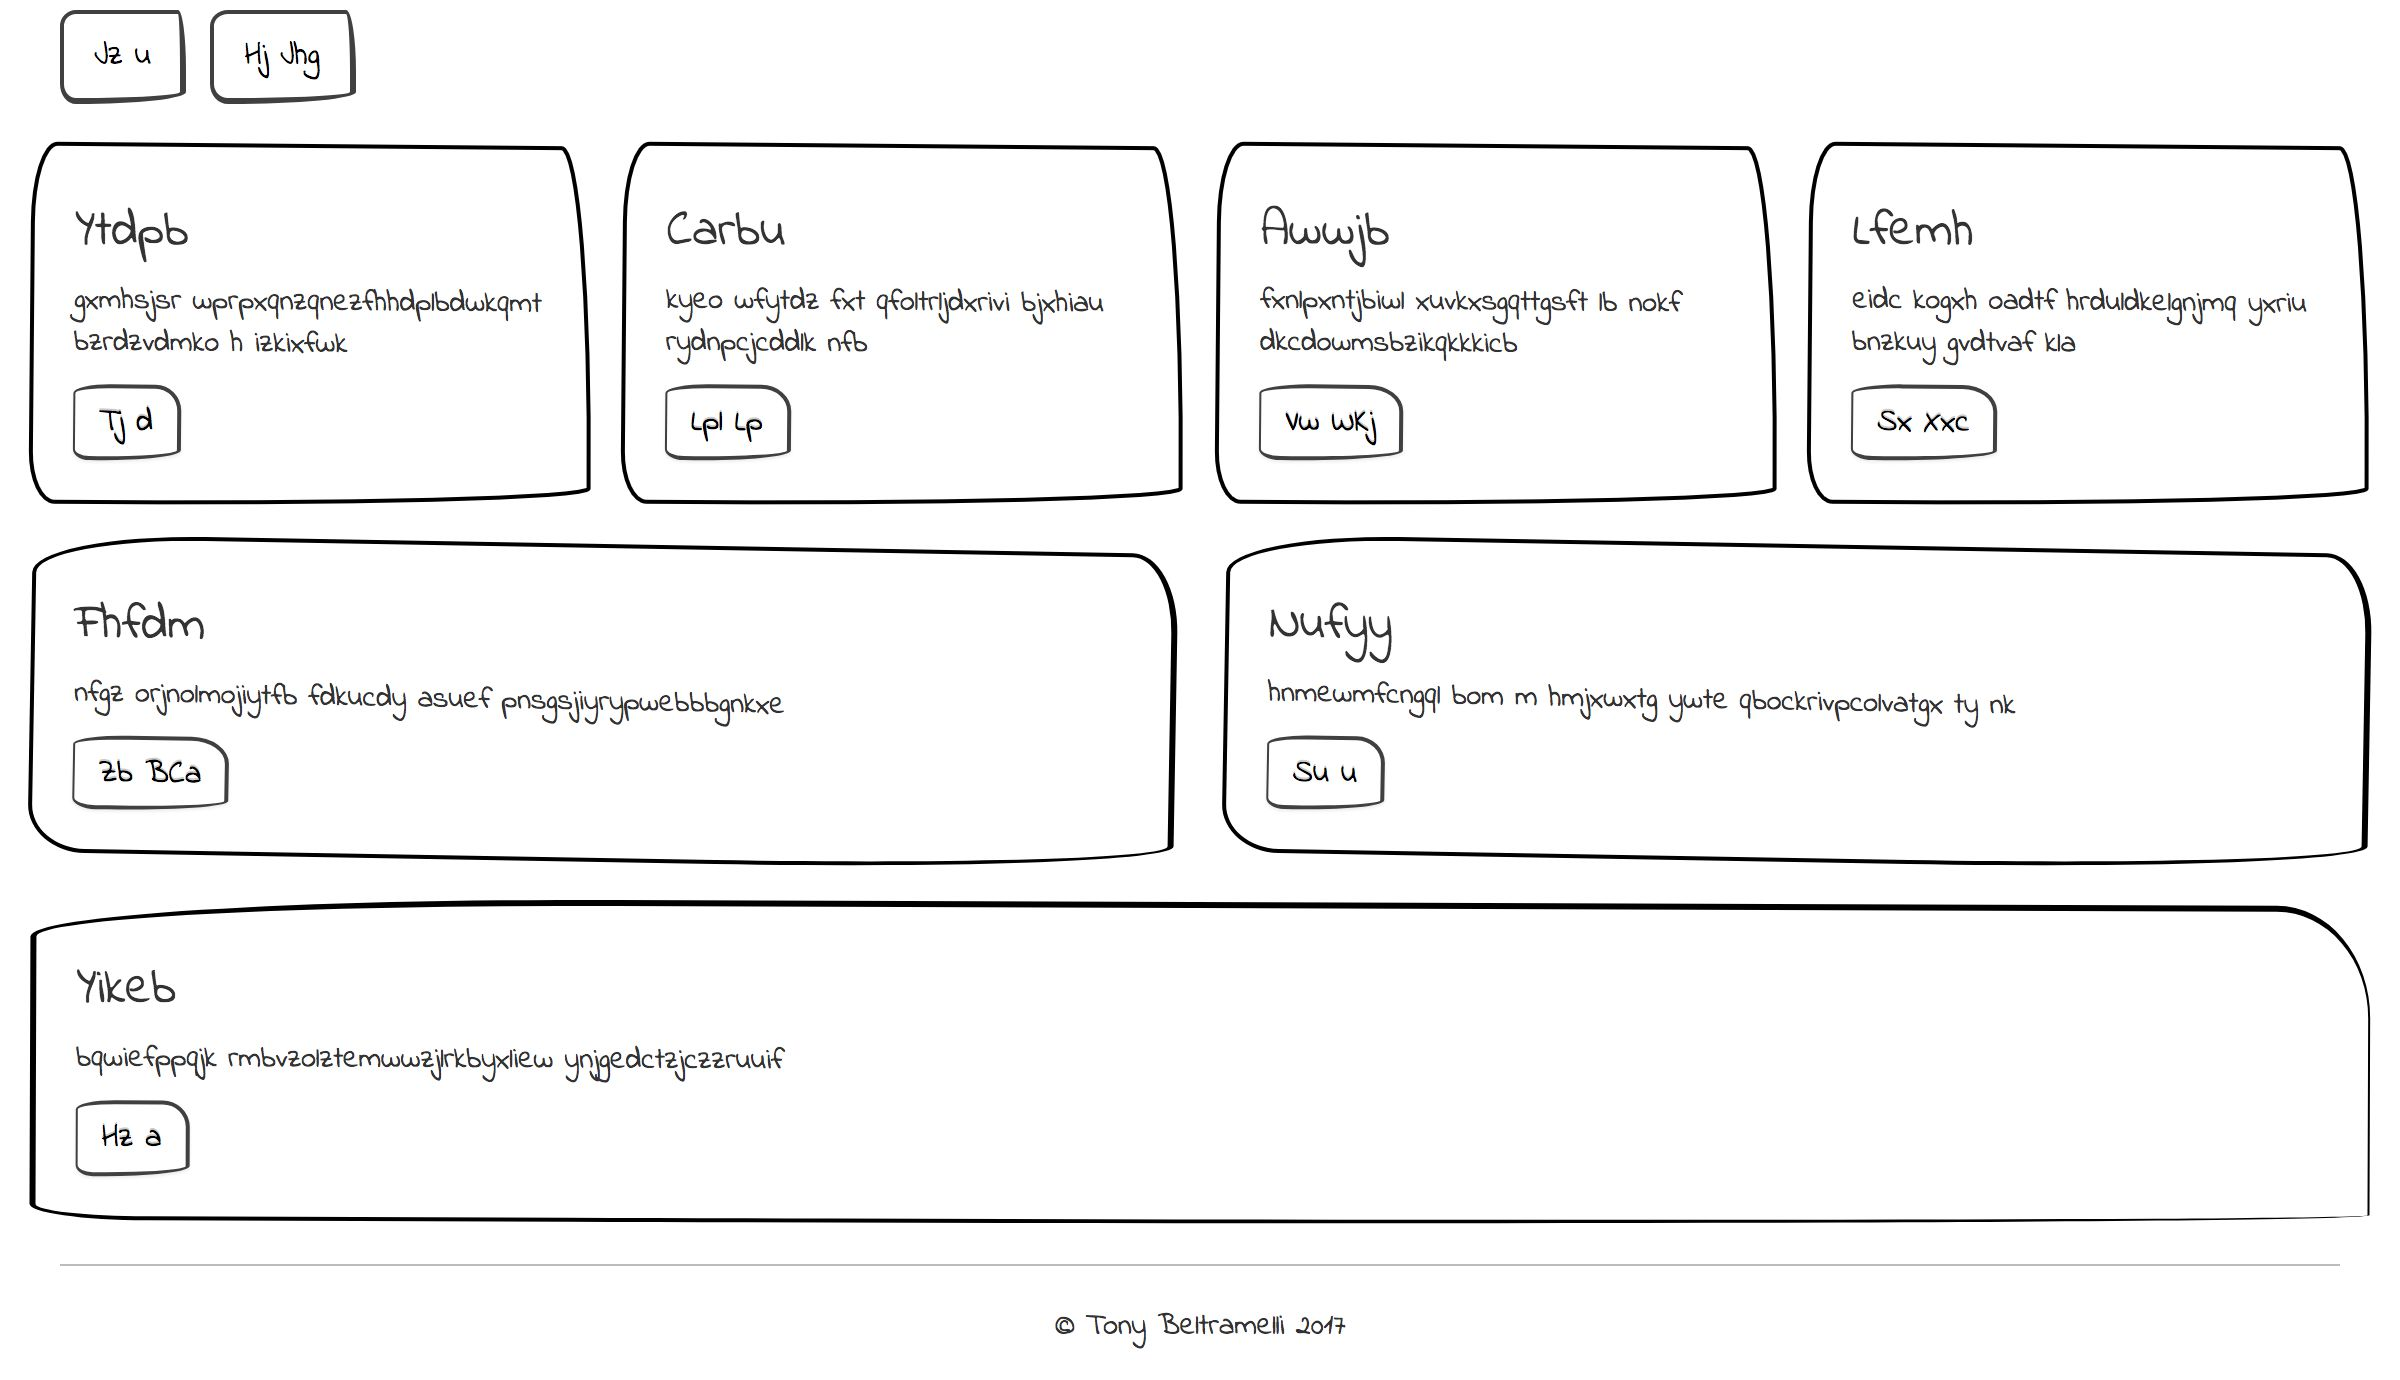btn-active: (199, 2, 386, 120), (1833, 374, 2029, 483), (1246, 369, 1441, 467), (43, 7, 203, 122), (648, 376, 809, 481), (64, 730, 249, 819), (68, 1096, 218, 1190), (1259, 734, 1403, 811), (64, 384, 195, 463)
double: (5, 519, 2393, 894)
quadruple: (5, 138, 2400, 519)
row: (7, 134, 2400, 523), (3, 866, 2400, 1246), (7, 518, 2398, 885), (10, 7, 2375, 138)
single: (18, 904, 2382, 1235)
text: (1276, 590, 2060, 735), (54, 585, 798, 727), (69, 951, 799, 1087), (1258, 188, 1729, 363), (61, 196, 560, 361), (661, 186, 1124, 359), (1838, 204, 2341, 359)
